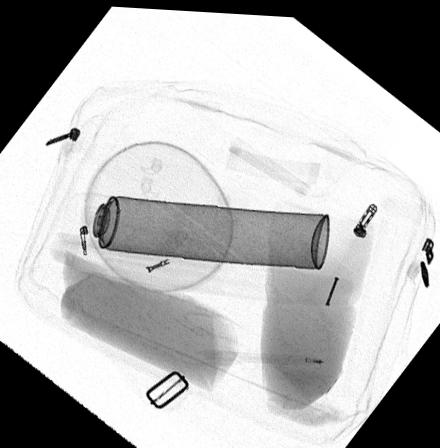Sprayer: (60, 191, 329, 265)
